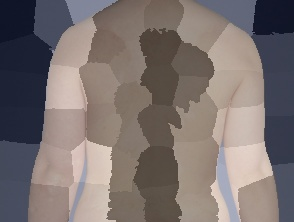vitiligo: (28, 0, 267, 222)
